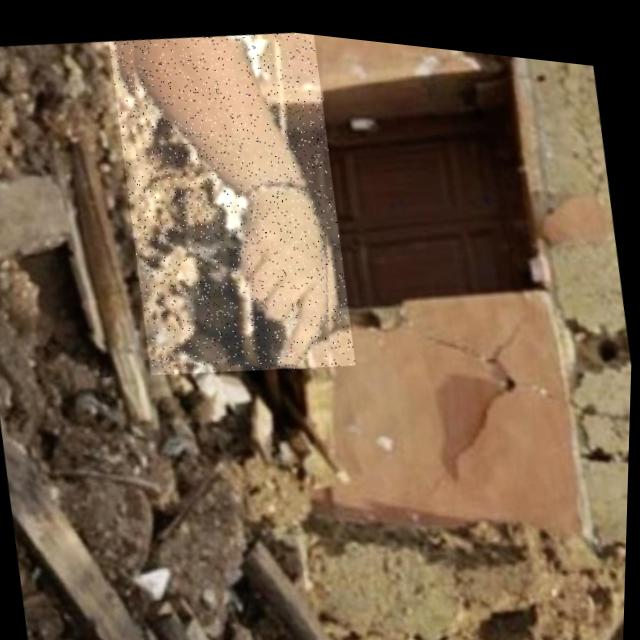Person in Rubble: (101, 10, 364, 389)
